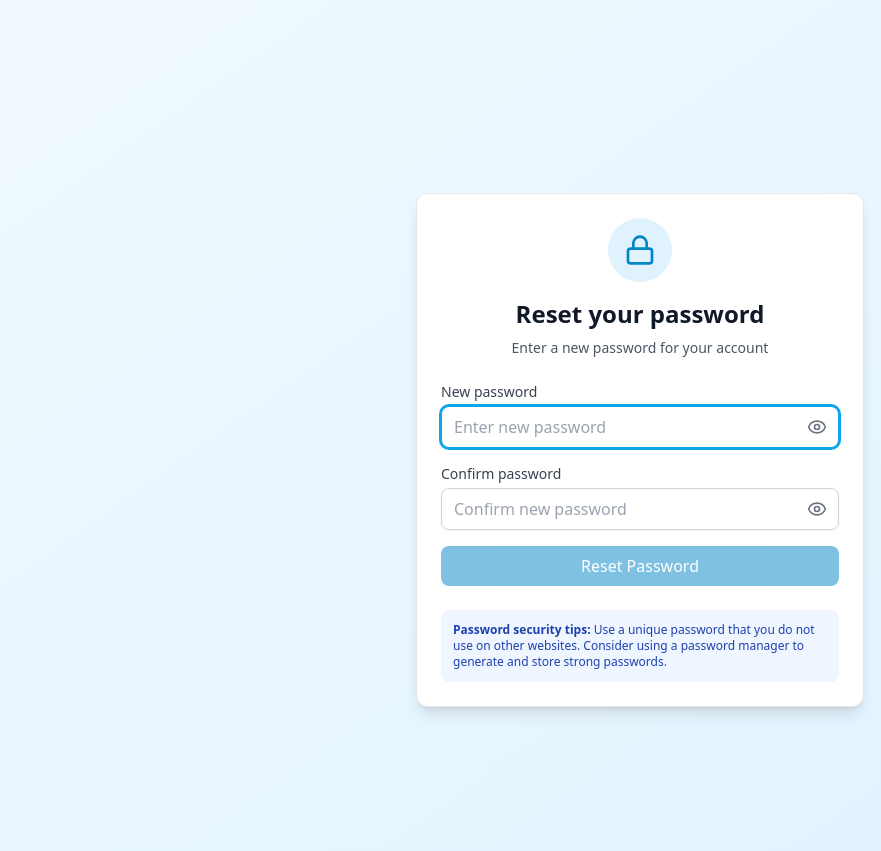
ResetPasswordPage › should show password strength meter when typing
Check: the heading "Reset your password" is shown, box [516,297,764,330]
Type "TestPassword" into the password field labelled "New password" at x=640, y=427, box [441,406,839,448]
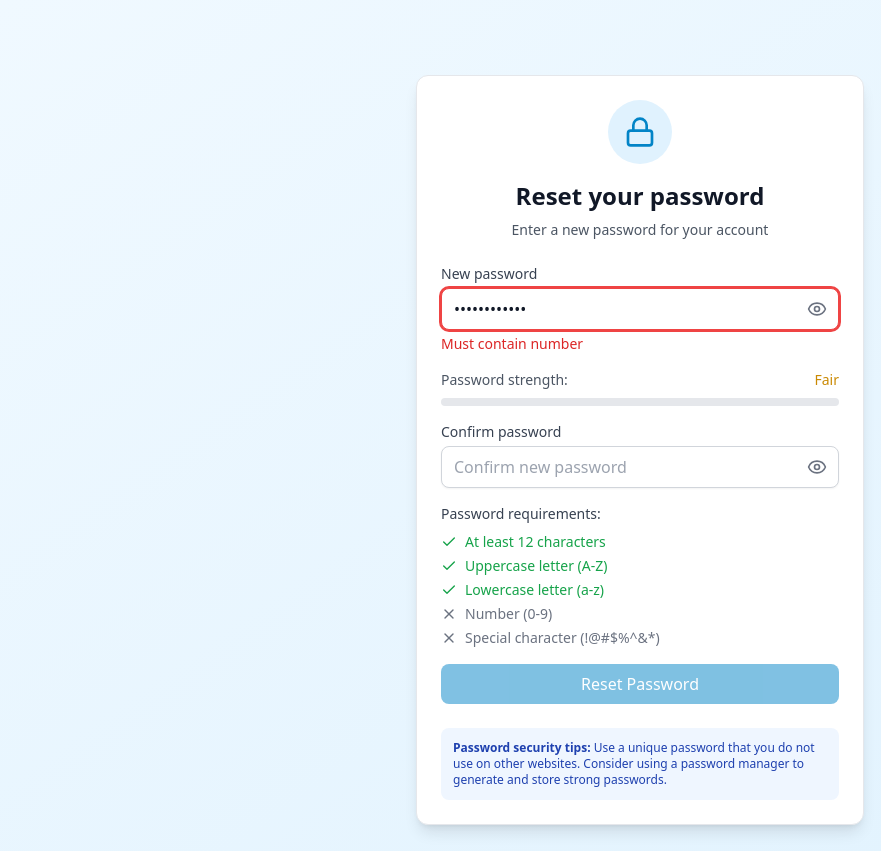
Check: the text "Password strength:" is shown, box [441,370,568,390]
